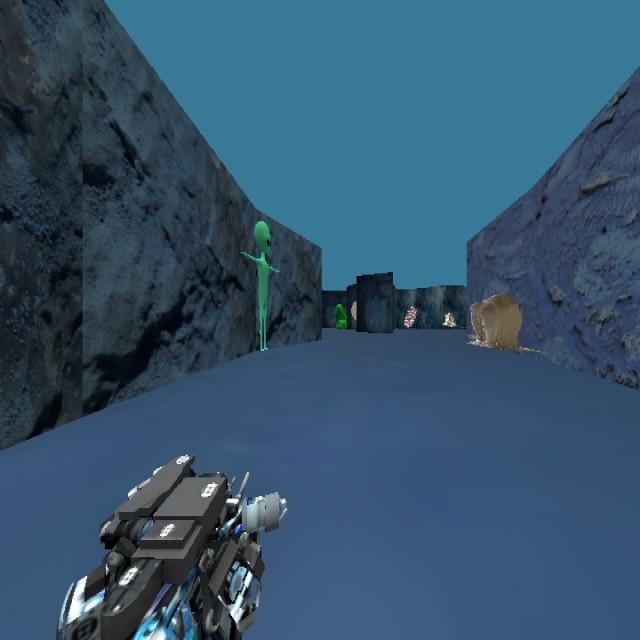Alien: (238, 218, 280, 350)
Circle: (349, 286, 362, 336)
Diamon: (332, 291, 350, 348)
Ice: (471, 292, 523, 350)
Mushroom: (403, 304, 417, 328)
